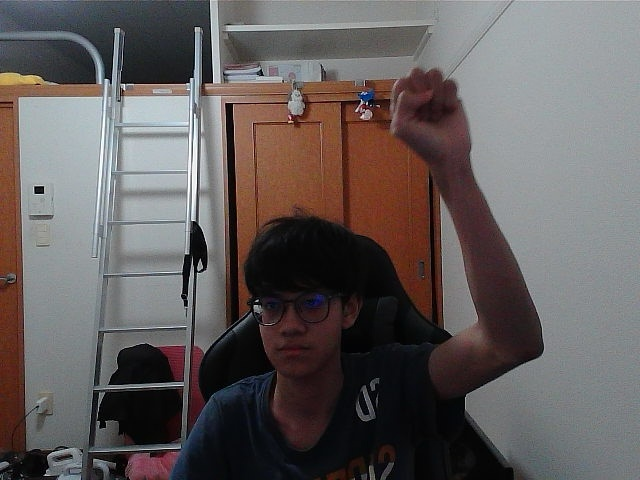closed_palm: (401, 72, 452, 156)
